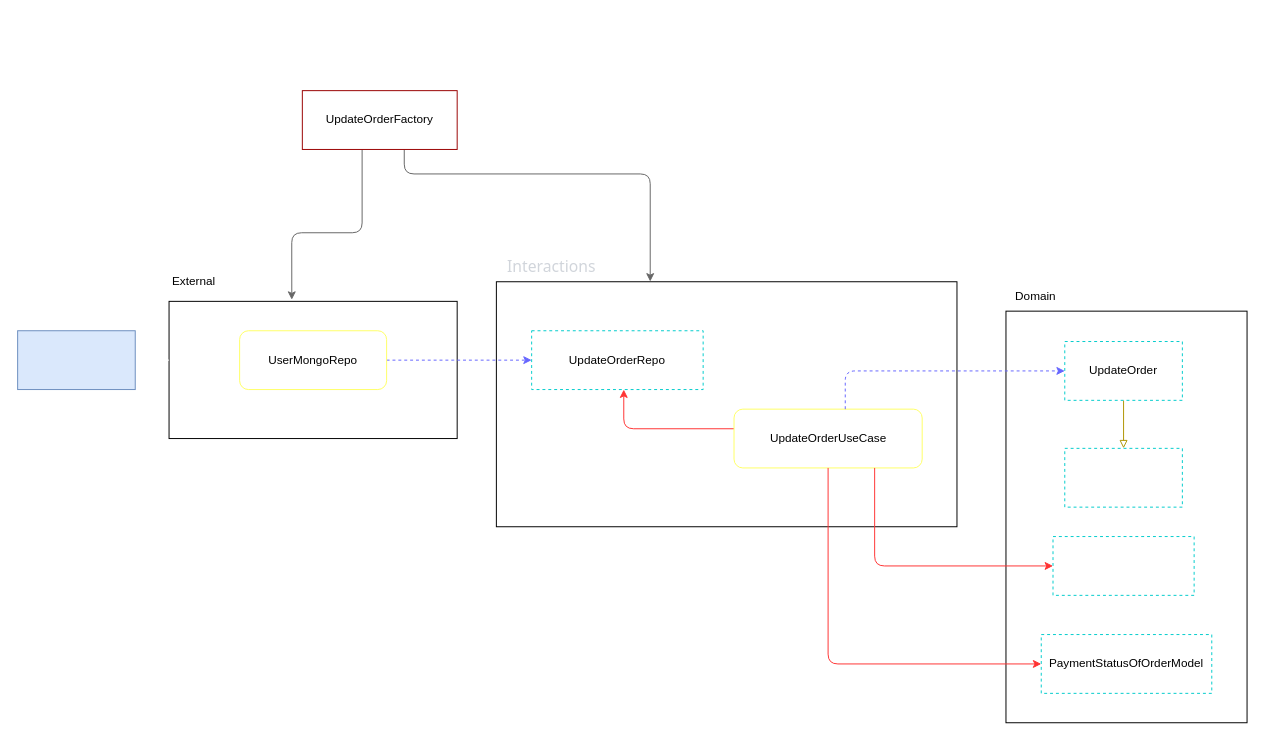
Image size: 1264x740. Some labels were removed from this diagram. Here are the shapes that lost their labels. From the top down, the centre of each, then its label:
the point at 76,360: MongoDb
the point at 1123,477: Event
the point at 1123,565: StatusOfOrderModel
